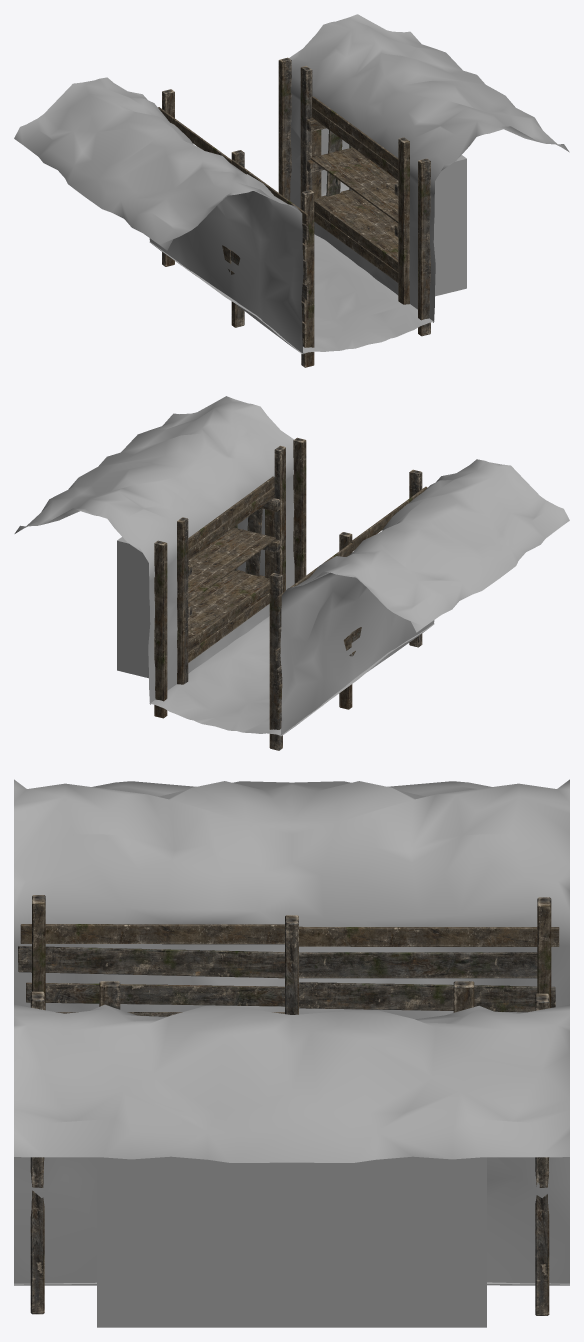
Rendered from Ground_Bed_Wood.fbx.
3 views of the same model, one above another, from view 1: azimuth 30°, elevation 25°; view 2: azimuth 150°, elevation 25°; view 3: azimuth 270°, elevation 25° (orthographic). The views are drawn at different scales.
Parts seen in each view (by area): view 1: Ground_Bed_Wood_LOD0; view 2: Ground_Bed_Wood_LOD0; view 3: Ground_Bed_Wood_LOD0.
Boxes of the visible parts, x1,y1,x2,y2 form: Ground_Bed_Wood_LOD0: [14, 14, 569, 367]; Ground_Bed_Wood_LOD0: [14, 396, 569, 750]; Ground_Bed_Wood_LOD0: [14, 779, 569, 1327].
Size of what is drawn, in the model's own units: 627 by 299 by 400.
